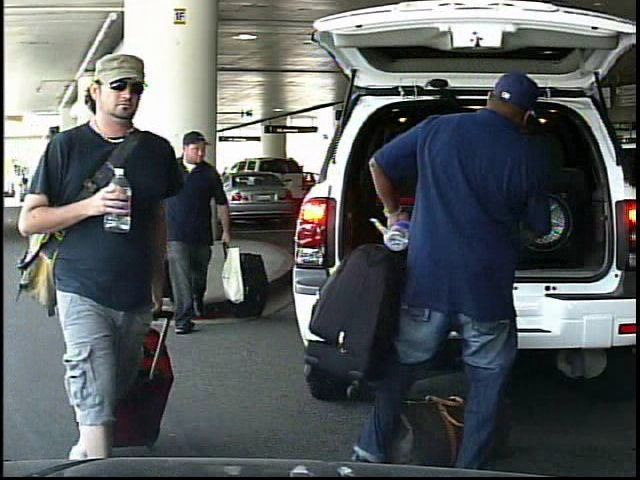person: (342, 68, 556, 470), (22, 49, 193, 476), (170, 118, 243, 329), (12, 169, 23, 200)
